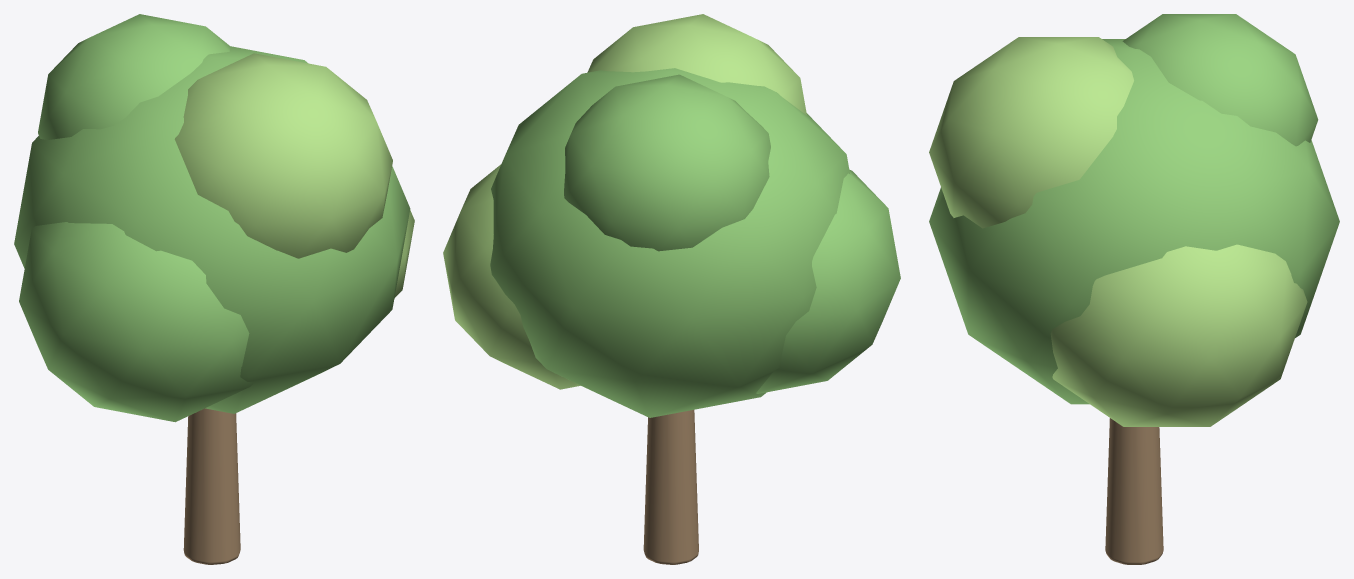
Rendered from tree_round.fbx.
3 renders of one model, left to right at view 1: azimuth 30°, elevation 25°; view 2: azimuth 150°, elevation 25°; view 3: azimuth 270°, elevation 25°, orthographic. The views are drawn at different scales.
Visible parts, largest first — view 1: Visual; view 2: Visual; view 3: Visual.
Part boxes in pixels (left/top/right/bottom): Visual: left=14, top=14, right=414, bottom=564; Visual: left=443, top=14, right=900, bottom=564; Visual: left=929, top=14, right=1339, bottom=564.
Size of what is drawn, in the model's own units: 422 by 531 by 380.
